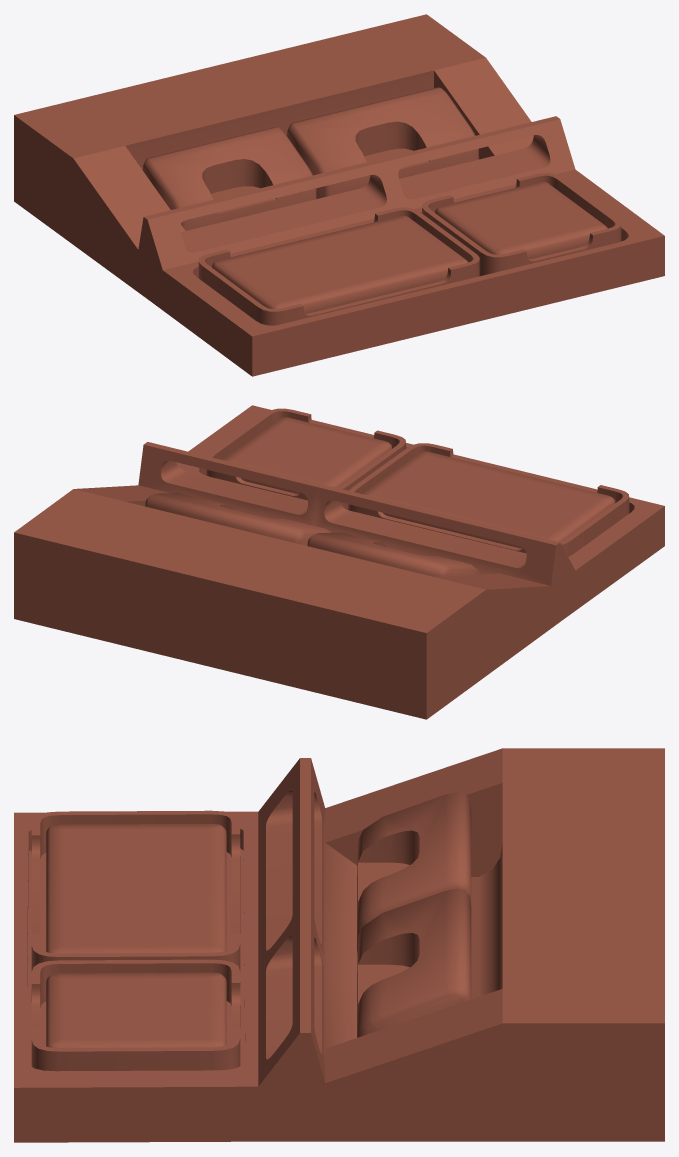
Rendered from Ceiling_Upon_DoorWall.FBX.
3 views of the same model, one above another, from view 1: azimuth 30°, elevation 25°; view 2: azimuth 150°, elevation 25°; view 3: azimuth 270°, elevation 25° (orthographic). The views are drawn at different scales.
Visible parts, largest first — view 1: Ceiling_Upon_DoorWall; view 2: Ceiling_Upon_DoorWall; view 3: Ceiling_Upon_DoorWall.
Boxes of the visible parts, x1,y1,x2,y2 form: Ceiling_Upon_DoorWall: [14, 14, 664, 376]; Ceiling_Upon_DoorWall: [14, 405, 664, 719]; Ceiling_Upon_DoorWall: [14, 748, 664, 1142].
Size of the model in its own units: 400 by 80.89 by 400.
